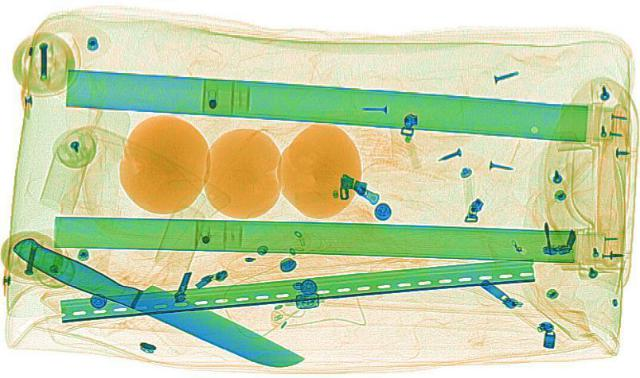Knife: (0, 231, 315, 374)
